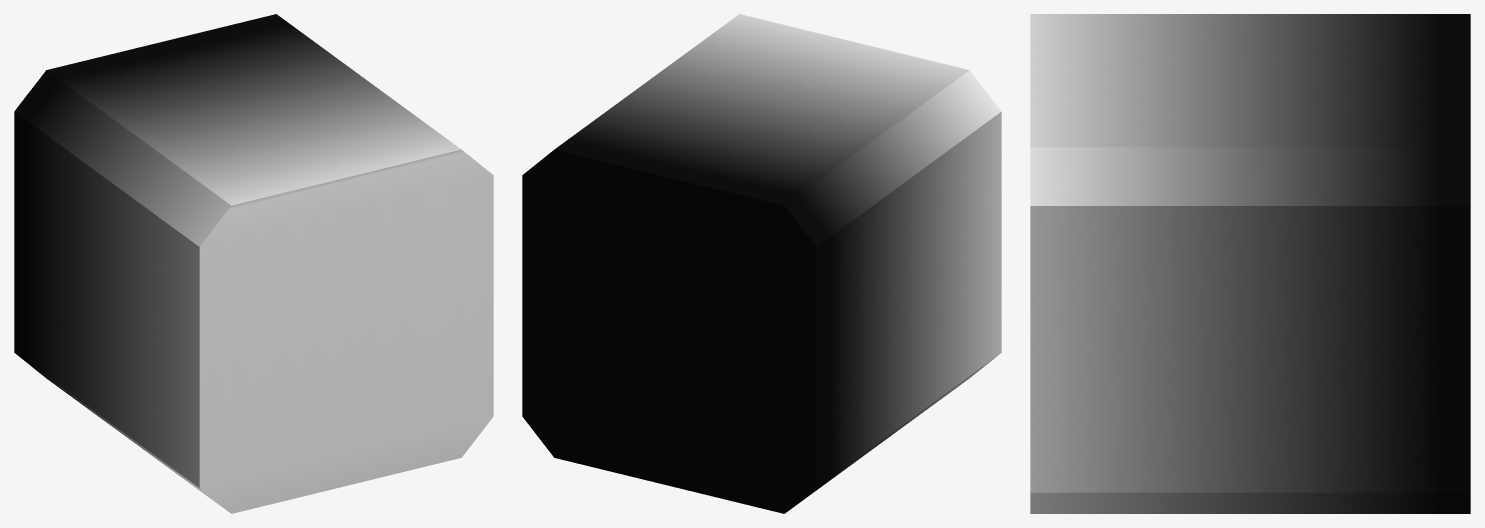
The model's file is BulletQuad.fbx.
The picture shows the model from 3 angles, left to right: view 1: azimuth 30°, elevation 25°; view 2: azimuth 150°, elevation 25°; view 3: azimuth 270°, elevation 25°; orthographic projection. The views are drawn at different scales.
Parts seen in each view (by area): view 1: BulletQuad; view 2: BulletQuad; view 3: BulletQuad.
Boxes of the visible parts, x1=… form: BulletQuad: x1=14, y1=14, x2=493, y2=513; BulletQuad: x1=522, y1=14, x2=1001, y2=513; BulletQuad: x1=1030, y1=14, x2=1470, y2=513.
Size of the model in its own units: 11.92 by 11.94 by 13.
Materials: 1 (1 with a texture image).
